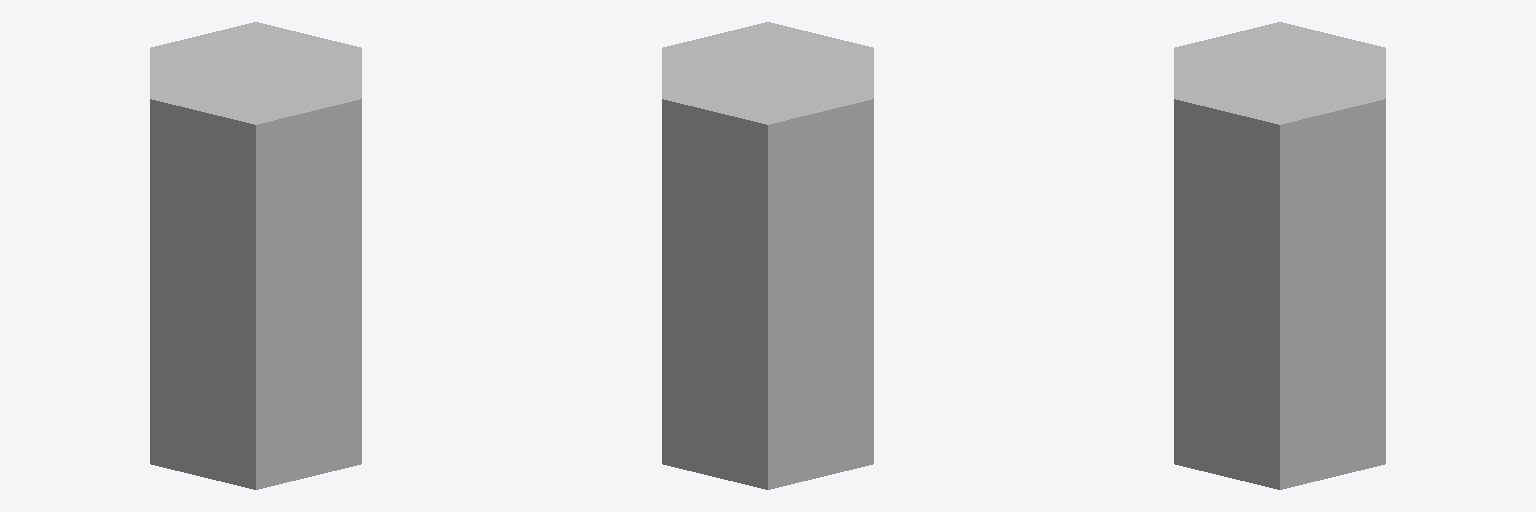
File: Barrel.obj
3 renders of one model, left to right at view 1: azimuth 30°, elevation 25°; view 2: azimuth 150°, elevation 25°; view 3: azimuth 270°, elevation 25°, orthographic.
Parts seen in each view (by area): view 1: collider; view 2: collider; view 3: collider.
Part boxes in pixels (left/top/right/bottom): collider: left=150, top=22, right=361, bottom=489; collider: left=662, top=22, right=873, bottom=489; collider: left=1174, top=22, right=1385, bottom=489.
Size of the model in its own units: 59.64 by 98.57 by 51.65.